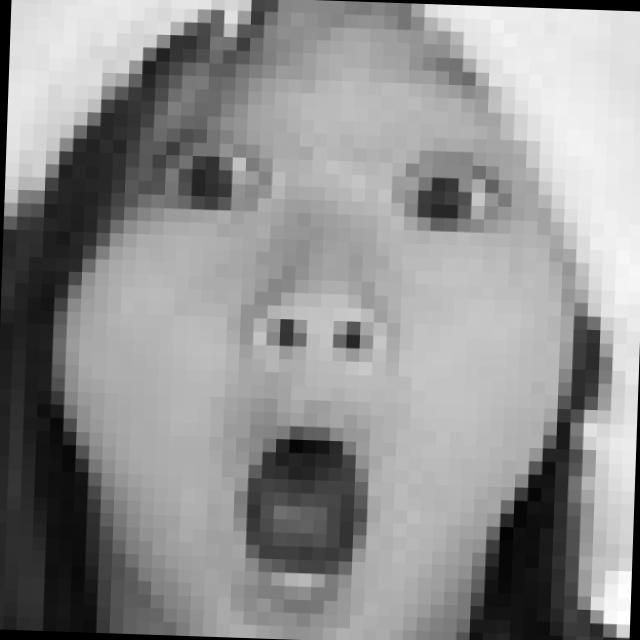surprise: (109, 109, 523, 640)
